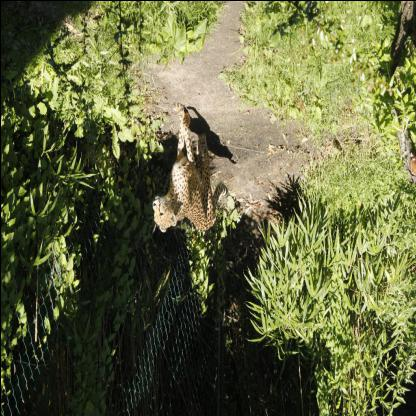leopard: (148, 182, 176, 236)
